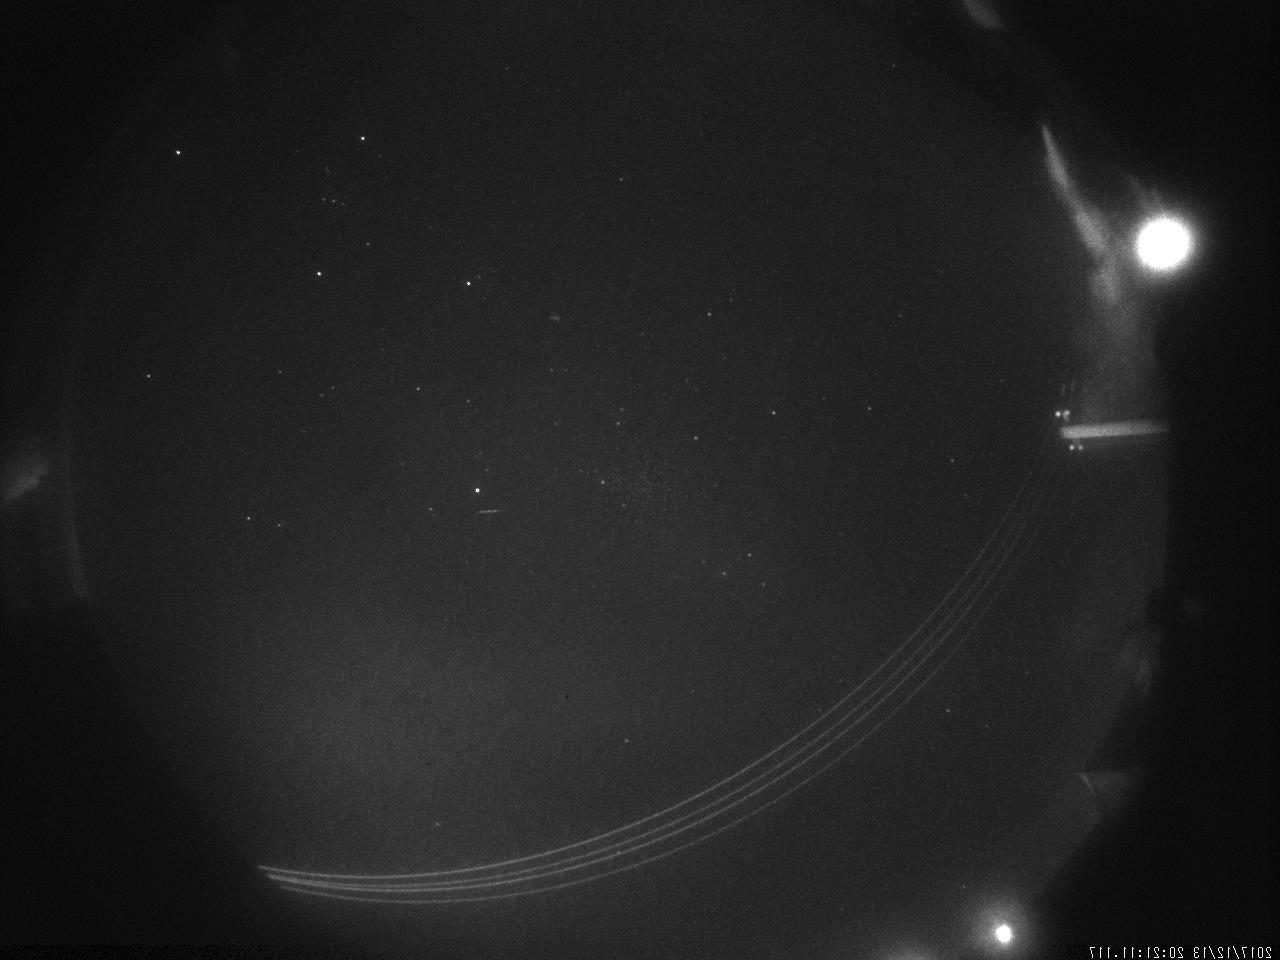meteor: (468, 500, 509, 524)
